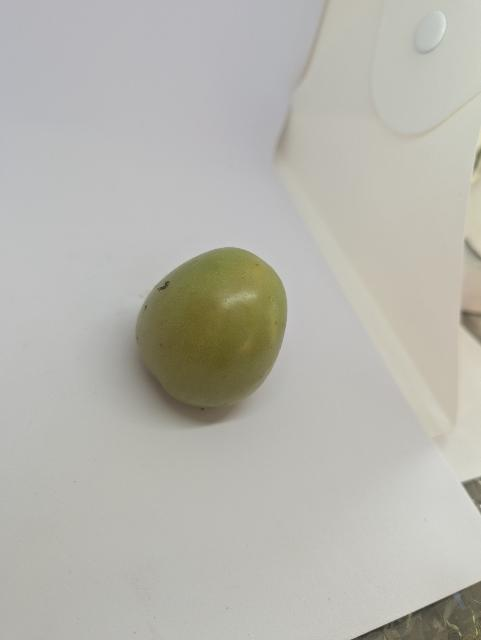green: (128, 235, 305, 427)
